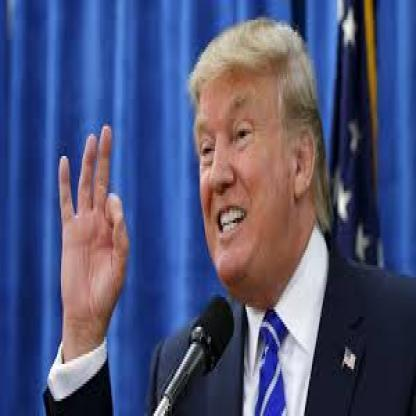ok: (56, 122, 133, 326)
